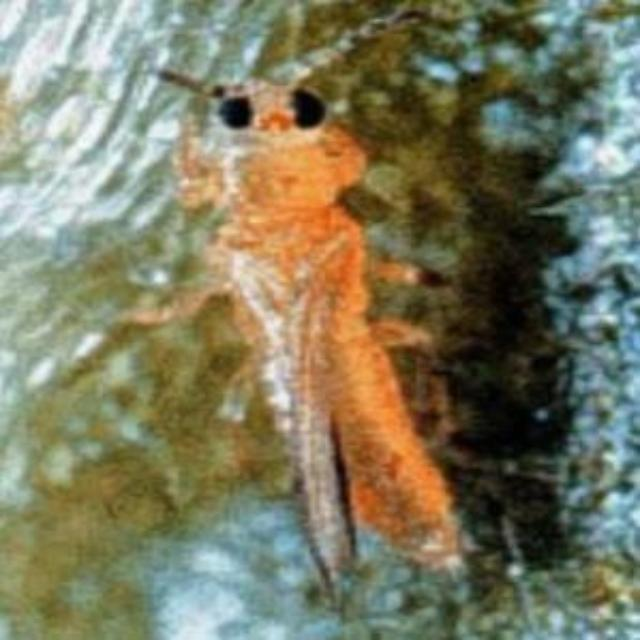melon thrips: (124, 28, 516, 626)
